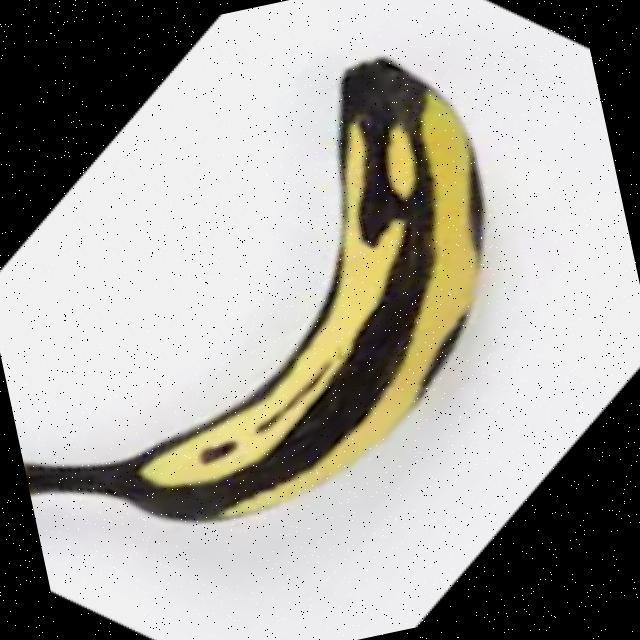Rotten: (0, 38, 541, 561)
